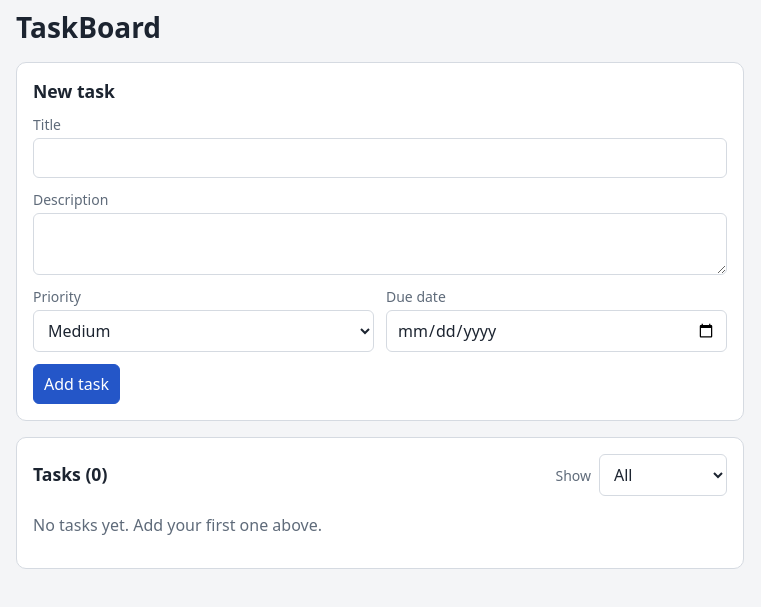
Test case: App › creates a task and clears the form
Expected: the text "No tasks yet. Add your first one above." is shown, [33,514,322,536]
Type "  Prepare demo  " into the field labelled "Title". click: (380,158)
box: [33,138,727,178]
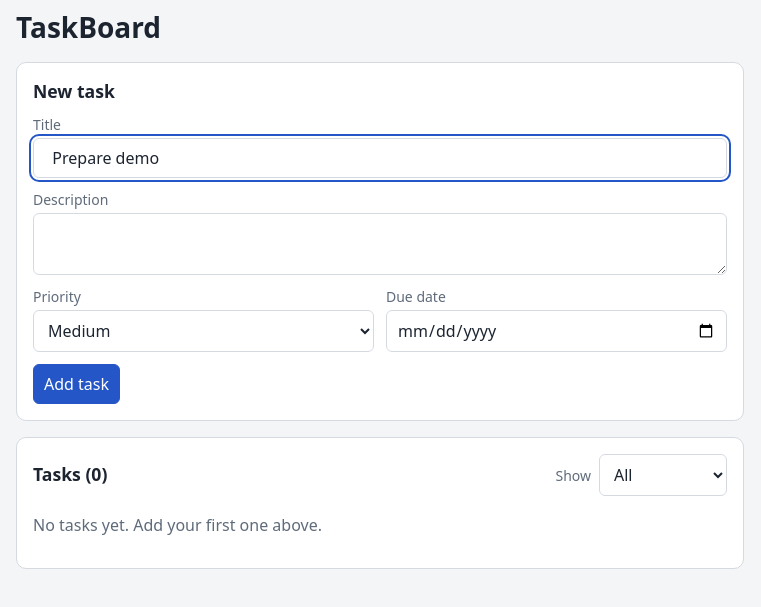
Select "High" in the dropdown labelled "Priority". click: (204,331)
box: [33,310,374,352]
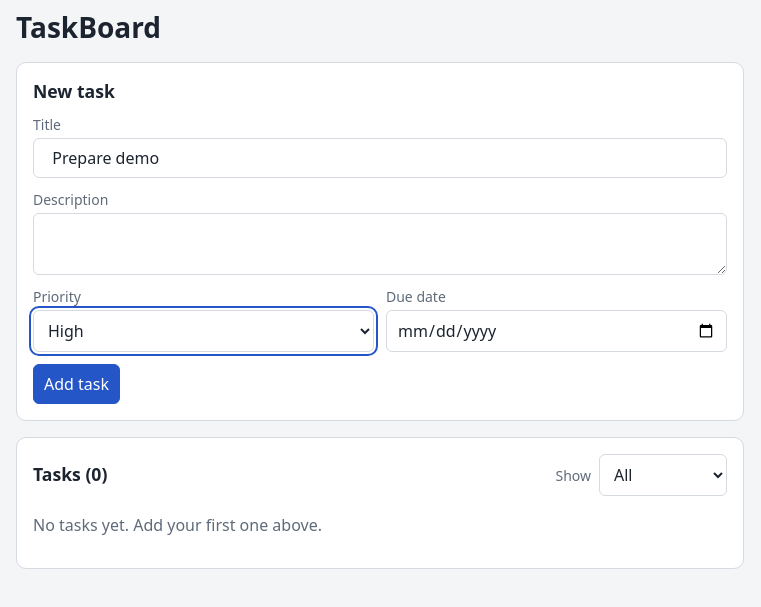
Click the button "Add task". click: (76,384)
box: [33,364,120,404]
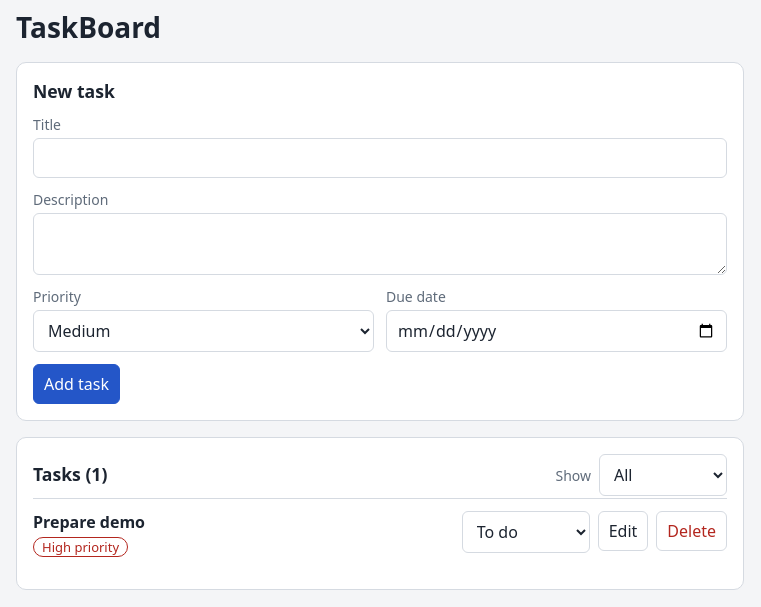
Expected: the heading "Prepare demo" is shown, [33,511,145,533]
Expected: the field labelled "Title" is empty, [33,138,727,178]
